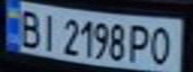1: (78, 17, 93, 59)
2: (57, 15, 81, 56)
8: (106, 20, 130, 62)
9: (90, 19, 112, 60)
B: (15, 6, 45, 49)
I: (36, 10, 60, 51)
O: (145, 24, 181, 66)
P: (127, 21, 154, 64)
